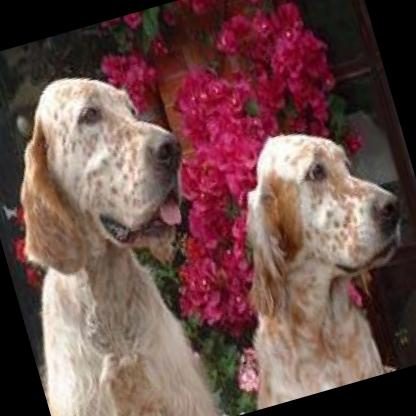English_setter: (0, 46, 254, 416), (186, 102, 416, 406)
